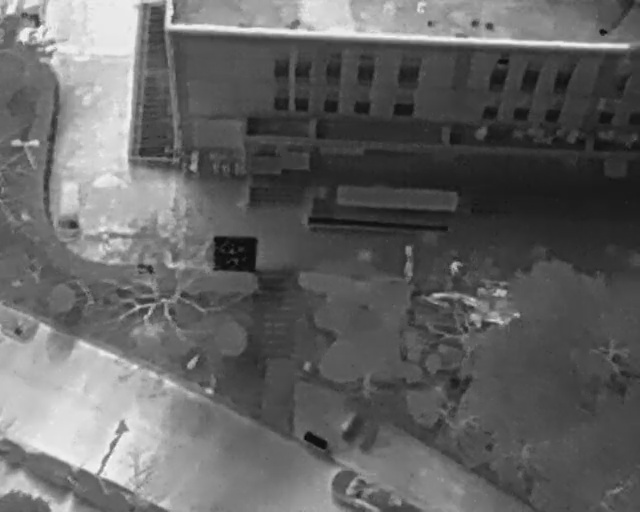Car: (330, 465, 415, 512)
